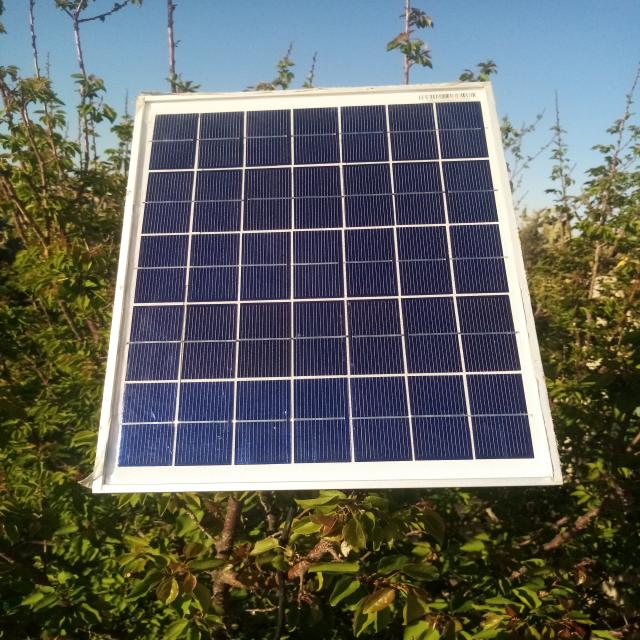no faulty: (92, 82, 561, 493)
